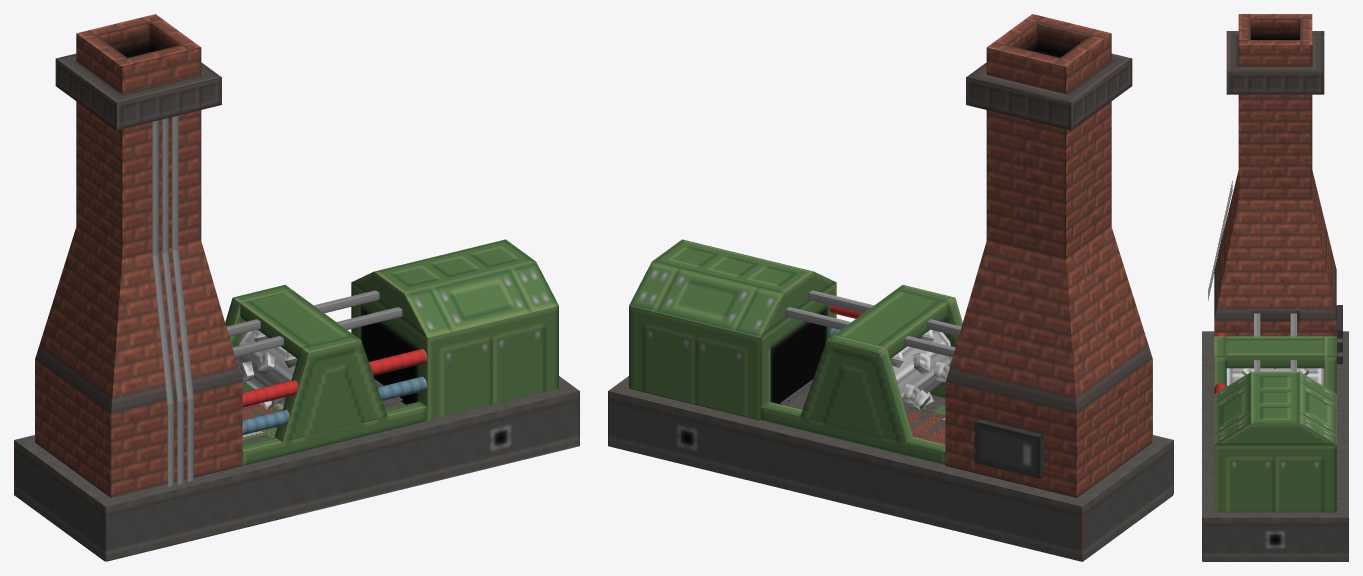
The model's file is annihilator.obj.
The picture shows the model from 3 angles, left to right: view 1: azimuth 30°, elevation 25°; view 2: azimuth 150°, elevation 25°; view 3: azimuth 270°, elevation 25°; orthographic projection. The views are drawn at different scales.
Visible parts, largest first — view 1: Annihilator, Roller, Belt; view 2: Annihilator, Roller, Belt; view 3: Annihilator, Roller.
Part boxes in pixels (bbox=[...]): Annihilator: bbox=[14, 14, 579, 561]; Roller: bbox=[235, 329, 297, 410]; Belt: bbox=[242, 379, 403, 439]; Annihilator: bbox=[608, 14, 1173, 561]; Roller: bbox=[890, 329, 952, 410]; Belt: bbox=[780, 379, 945, 444]; Annihilator: bbox=[1202, 14, 1348, 561]; Roller: bbox=[1226, 368, 1324, 386].
Bounding box in the file's own units: 9 × 8.5 × 3.
